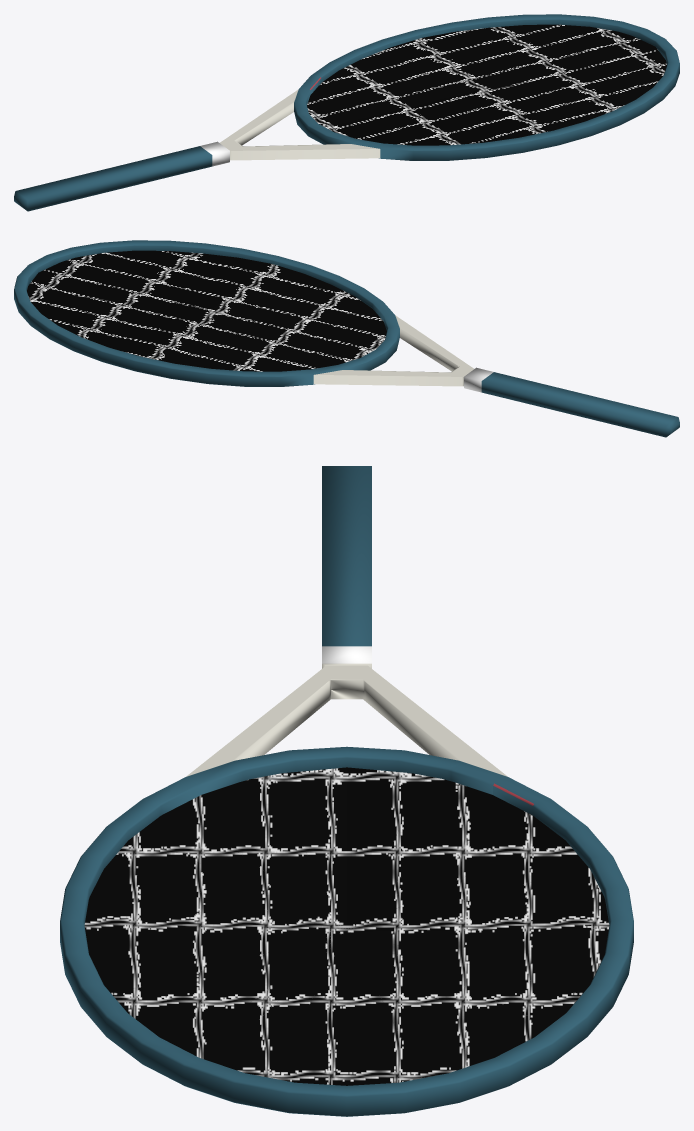
Rendered from raqueta azul.fbx.
The picture shows the model from 3 angles, top to bottom: view 1: azimuth 30°, elevation 25°; view 2: azimuth 150°, elevation 25°; view 3: azimuth 270°, elevation 25°; orthographic projection. The views are drawn at different scales.
Parts seen in each view (by area): view 1: Plane.005, Circle.001; view 2: Plane.005, Circle.001; view 3: Plane.005, Circle.001.
Boxes of the visible parts, bbox=[...] form: Plane.005: bbox=[307, 24, 666, 145]; Circle.001: bbox=[14, 14, 679, 211]; Plane.005: bbox=[27, 250, 386, 371]; Circle.001: bbox=[14, 240, 679, 437]; Plane.005: bbox=[84, 767, 609, 1085]; Circle.001: bbox=[60, 466, 633, 1116].
Size of the model in its own units: 385 by 6.47 by 148.
Materials: 2 (2 with a texture image).
